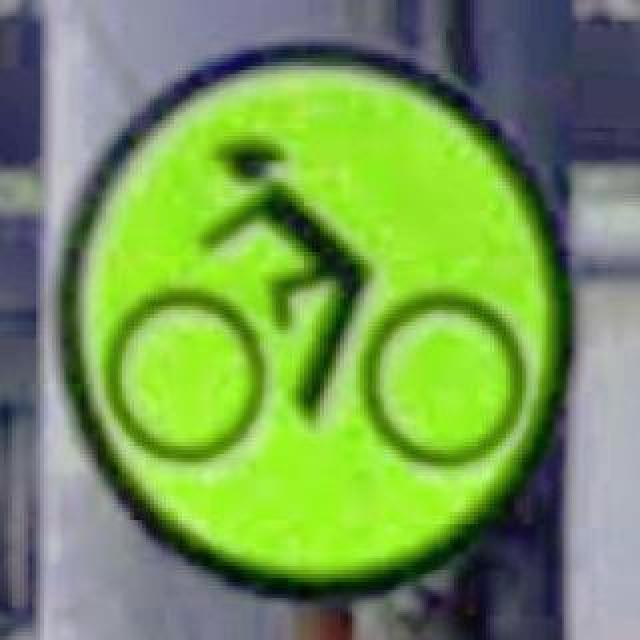bike lane: (50, 42, 576, 600)
